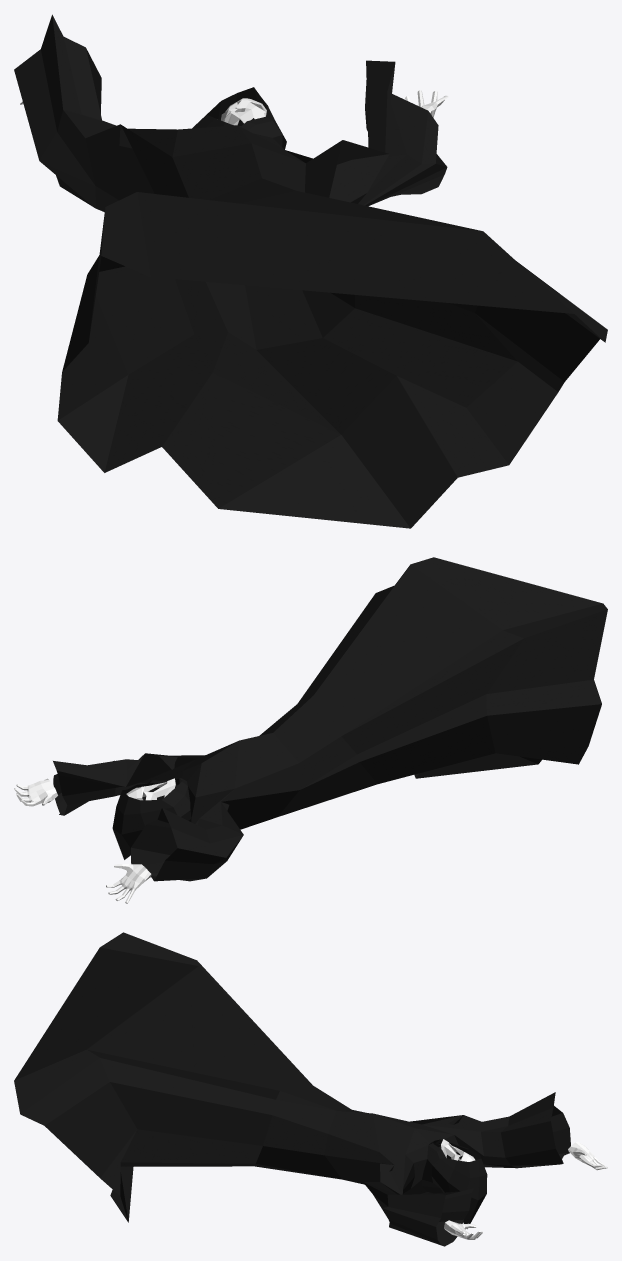
Rendered from ReaperDead(95).obj.
3 renders of one model, top to bottom at view 1: azimuth 30°, elevation 25°; view 2: azimuth 150°, elevation 25°; view 3: azimuth 270°, elevation 25°, orthographic. The views are drawn at different scales.
Visible parts, largest first — view 1: Plane003; view 2: Plane003; view 3: Plane003.
Part boxes in pixels (x1=…): Plane003: x1=14, y1=14, x2=607, y2=528; Plane003: x1=14, y1=557, x2=607, y2=903; Plane003: x1=14, y1=932, x2=607, y2=1246.
Bounding box in the file's own units: 213 × 107 × 292.
